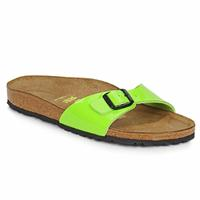shoe: (6, 76, 195, 146)
